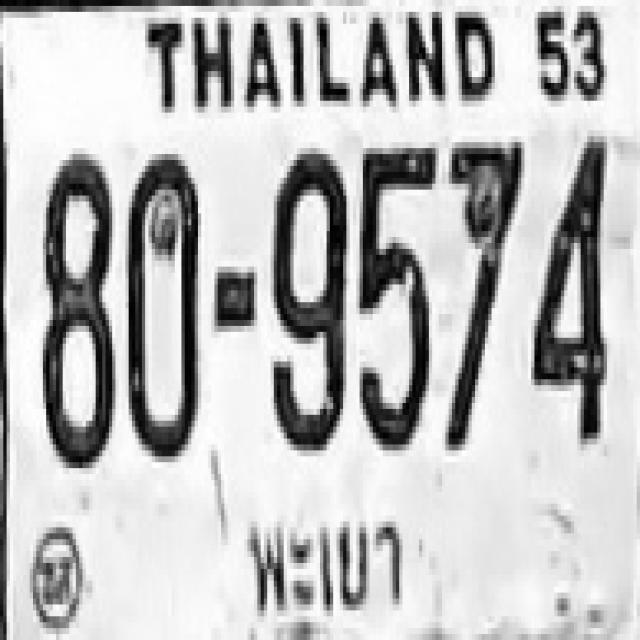0: (125, 151, 198, 459)
4: (531, 134, 607, 442)
5: (356, 140, 436, 448)
7: (444, 137, 523, 450)
8: (41, 148, 114, 468)
9: (273, 150, 346, 446)
Phayao: (234, 489, 418, 632)
